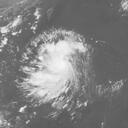cyclone: (15, 29, 92, 108)
